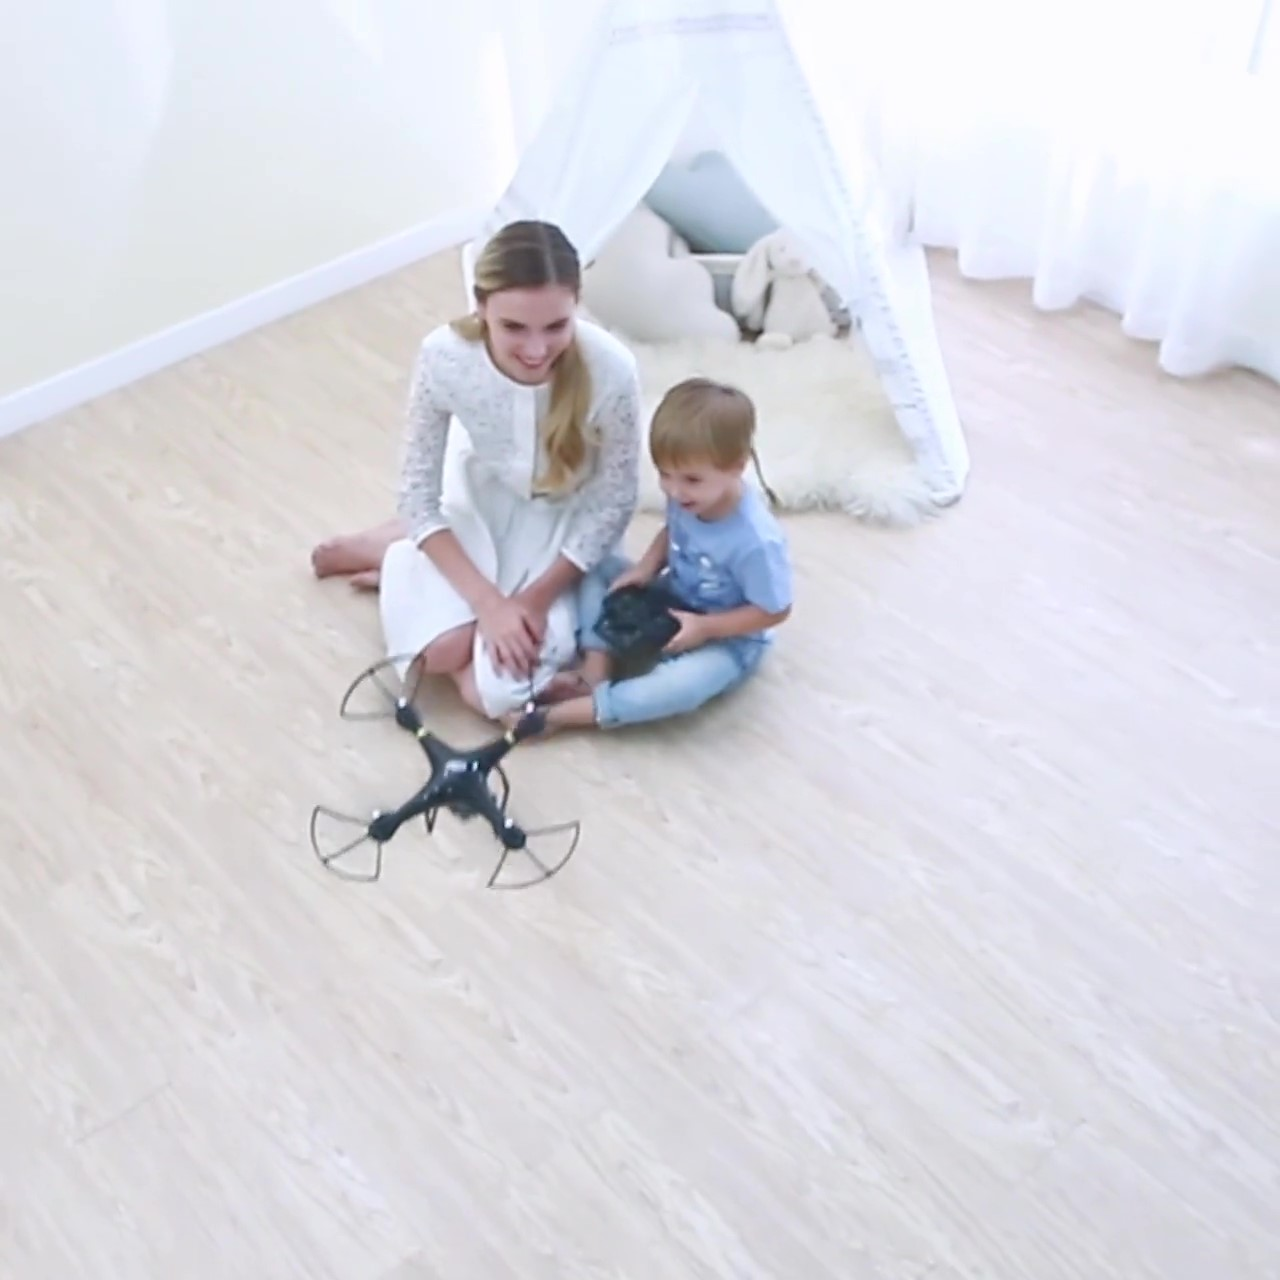drone: (312, 634, 581, 897)
person: (314, 222, 642, 745), (586, 374, 803, 743)
